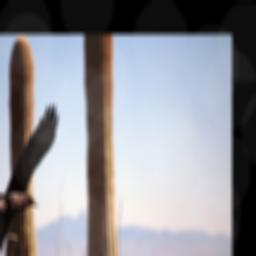Crow: (0, 101, 60, 256)
